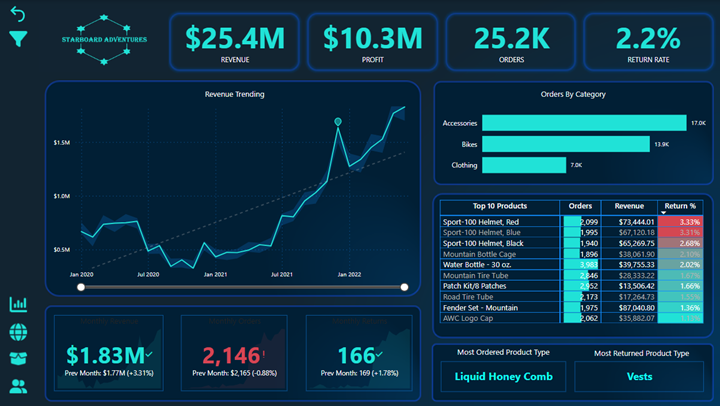

The dashboard page shown, as its layout file describes it:
{"tool":"powerbi","page":{"name":"Exec Dashboard","canvas":[1280,720],"ordinal":0},"visuals":[{"type":"shape","title":"Left Nav Background","box":[0,0,64.6,720.7],"z":0},{"type":"actionButton","box":[10.1,520.2,44.5,39.1],"z":0,"group":"g1"},{"type":"lineChart","title":"Revenue Trending","fields":{"Y":["Measure Table.Total Revenue"],"Category":["Calendar Lookup.Start of Month"]},"box":[89,157,654.4,363],"z":1000},{"type":"actionButton","box":[10.1,616.3,44.5,39.1],"z":1000,"group":"g1"},{"type":"card","fields":{"Values":["Measure Table.Total Profit"]},"box":[547.8,20.2,225.7,102.7],"z":2000},{"type":"actionButton","box":[10.1,664.3,44.5,39.1],"z":2000,"group":"g1"},{"type":"kpi","title":"Monthly Revenue","fields":{"Indicator":["Measure Table.Total Revenue"],"TrendLine":["Calendar Lookup.Start of Month"],"Goal":["Measure Table.Previous Month Revenue"]},"box":[96,558.4,193.7,134.4],"z":3000},{"type":"actionButton","box":[10.1,568.2,44.5,39.1],"z":3000,"group":"g1"},{"type":"card","fields":{"Values":["Measure Table.Total Revenue"]},"box":[303.5,20.2,225.7,102.7],"z":4000},{"type":"card","fields":{"Values":["Measure Table.Return Rate"]},"box":[1036.6,20.2,225.7,102.7],"z":5000},{"type":"kpi","title":"Monthly Orders","fields":{"TrendLine":["Calendar Lookup.Start of Month"],"Indicator":["Measure Table.Total Orders"],"Goal":["Measure Table.Previous Month Orders"]},"box":[321.9,558.4,188.5,134.4],"z":6000},{"type":"card","fields":{"Values":["Measure Table.Total Orders"]},"box":[793.8,20.2,225.7,102.7],"z":7000},{"type":"kpi","title":"Monthly Returns","fields":{"TrendLine":["Calendar Lookup.Start of Month"],"Indicator":["Measure Table.Total Returns"],"Goal":["Measure Table.Previous Month Returns"]},"box":[542.7,558.4,188.5,134.4],"z":8000},{"type":"clusteredBarChart","title":"Orders By Category","fields":{"Category":["Product Categories Lookup.CategoryName"],"Y":["Measure Table.Total Orders"]},"box":[774.8,157,483.4,171],"z":9000},{"type":"pivotTable","fields":{"Rows":["Product Lookup.ProductName"],"Values":["Measure Table.Total Orders","Measure Table.Total Revenue","Measure Table.Return Rate"]},"box":[774.8,349,483.3,242.6],"z":10000},{"type":"card","fields":{"Values":["Min(Product Subcategories Lookup.SubcategoryName)"]},"box":[781.8,641.2,221.6,54.1],"z":11000},{"type":"textbox","box":[781.8,609,221.6,27.9],"z":12000},{"type":"card","fields":{"Values":["Min(Product Subcategories Lookup.SubcategoryName)"]},"box":[1019.1,641.2,228.6,54.1],"z":13000},{"type":"textbox","box":[1019.1,610.7,237.3,29.7],"z":14000},{"type":"actionButton","box":[12.2,5.2,43.6,38.4],"z":15000},{"type":"group","id":"g1","title":"Navigation Buttons","box":[10.1,520.2,44.5,183.3],"z":16000},{"type":"actionButton","box":[10.5,48.9,43.6,40.1],"z":17000},{"type":"image","box":[64.6,0,239.1,143.1],"z":17500}]}

Visuals, with their boxes in screenshot pixels (x1, y1, x2, y2), scaled from the page's 1280x720 canvas onto the 720x406 screenshot:
"Left Nav Background" shape: Rect(0, 0, 36, 405)
actionButton: Rect(6, 293, 31, 315)
"Revenue Trending" lineChart: Rect(50, 89, 418, 293)
actionButton: Rect(6, 348, 31, 370)
card - Measure Table.Total Profit: Rect(308, 11, 435, 69)
actionButton: Rect(6, 375, 31, 397)
"Monthly Revenue" kpi: Rect(54, 315, 163, 391)
actionButton: Rect(6, 320, 31, 342)
card - Measure Table.Total Revenue: Rect(171, 11, 298, 69)
card - Measure Table.Return Rate: Rect(583, 11, 710, 69)
"Monthly Orders" kpi: Rect(181, 315, 287, 391)
card - Measure Table.Total Orders: Rect(447, 11, 573, 69)
"Monthly Returns" kpi: Rect(305, 315, 411, 391)
"Orders By Category" clusteredBarChart: Rect(436, 89, 708, 185)
pivotTable - Product Lookup.ProductName x Measure Table.Total Orders: Rect(436, 197, 708, 334)
card - Min(Product Subcategories Lookup.SubcategoryName): Rect(440, 362, 564, 392)
textbox: Rect(440, 343, 564, 359)
card - Min(Product Subcategories Lookup.SubcategoryName): Rect(573, 362, 702, 392)
textbox: Rect(573, 344, 707, 361)
actionButton: Rect(7, 3, 31, 25)
"Navigation Buttons" group: Rect(6, 293, 31, 397)
actionButton: Rect(6, 28, 30, 50)
image: Rect(36, 0, 171, 81)
